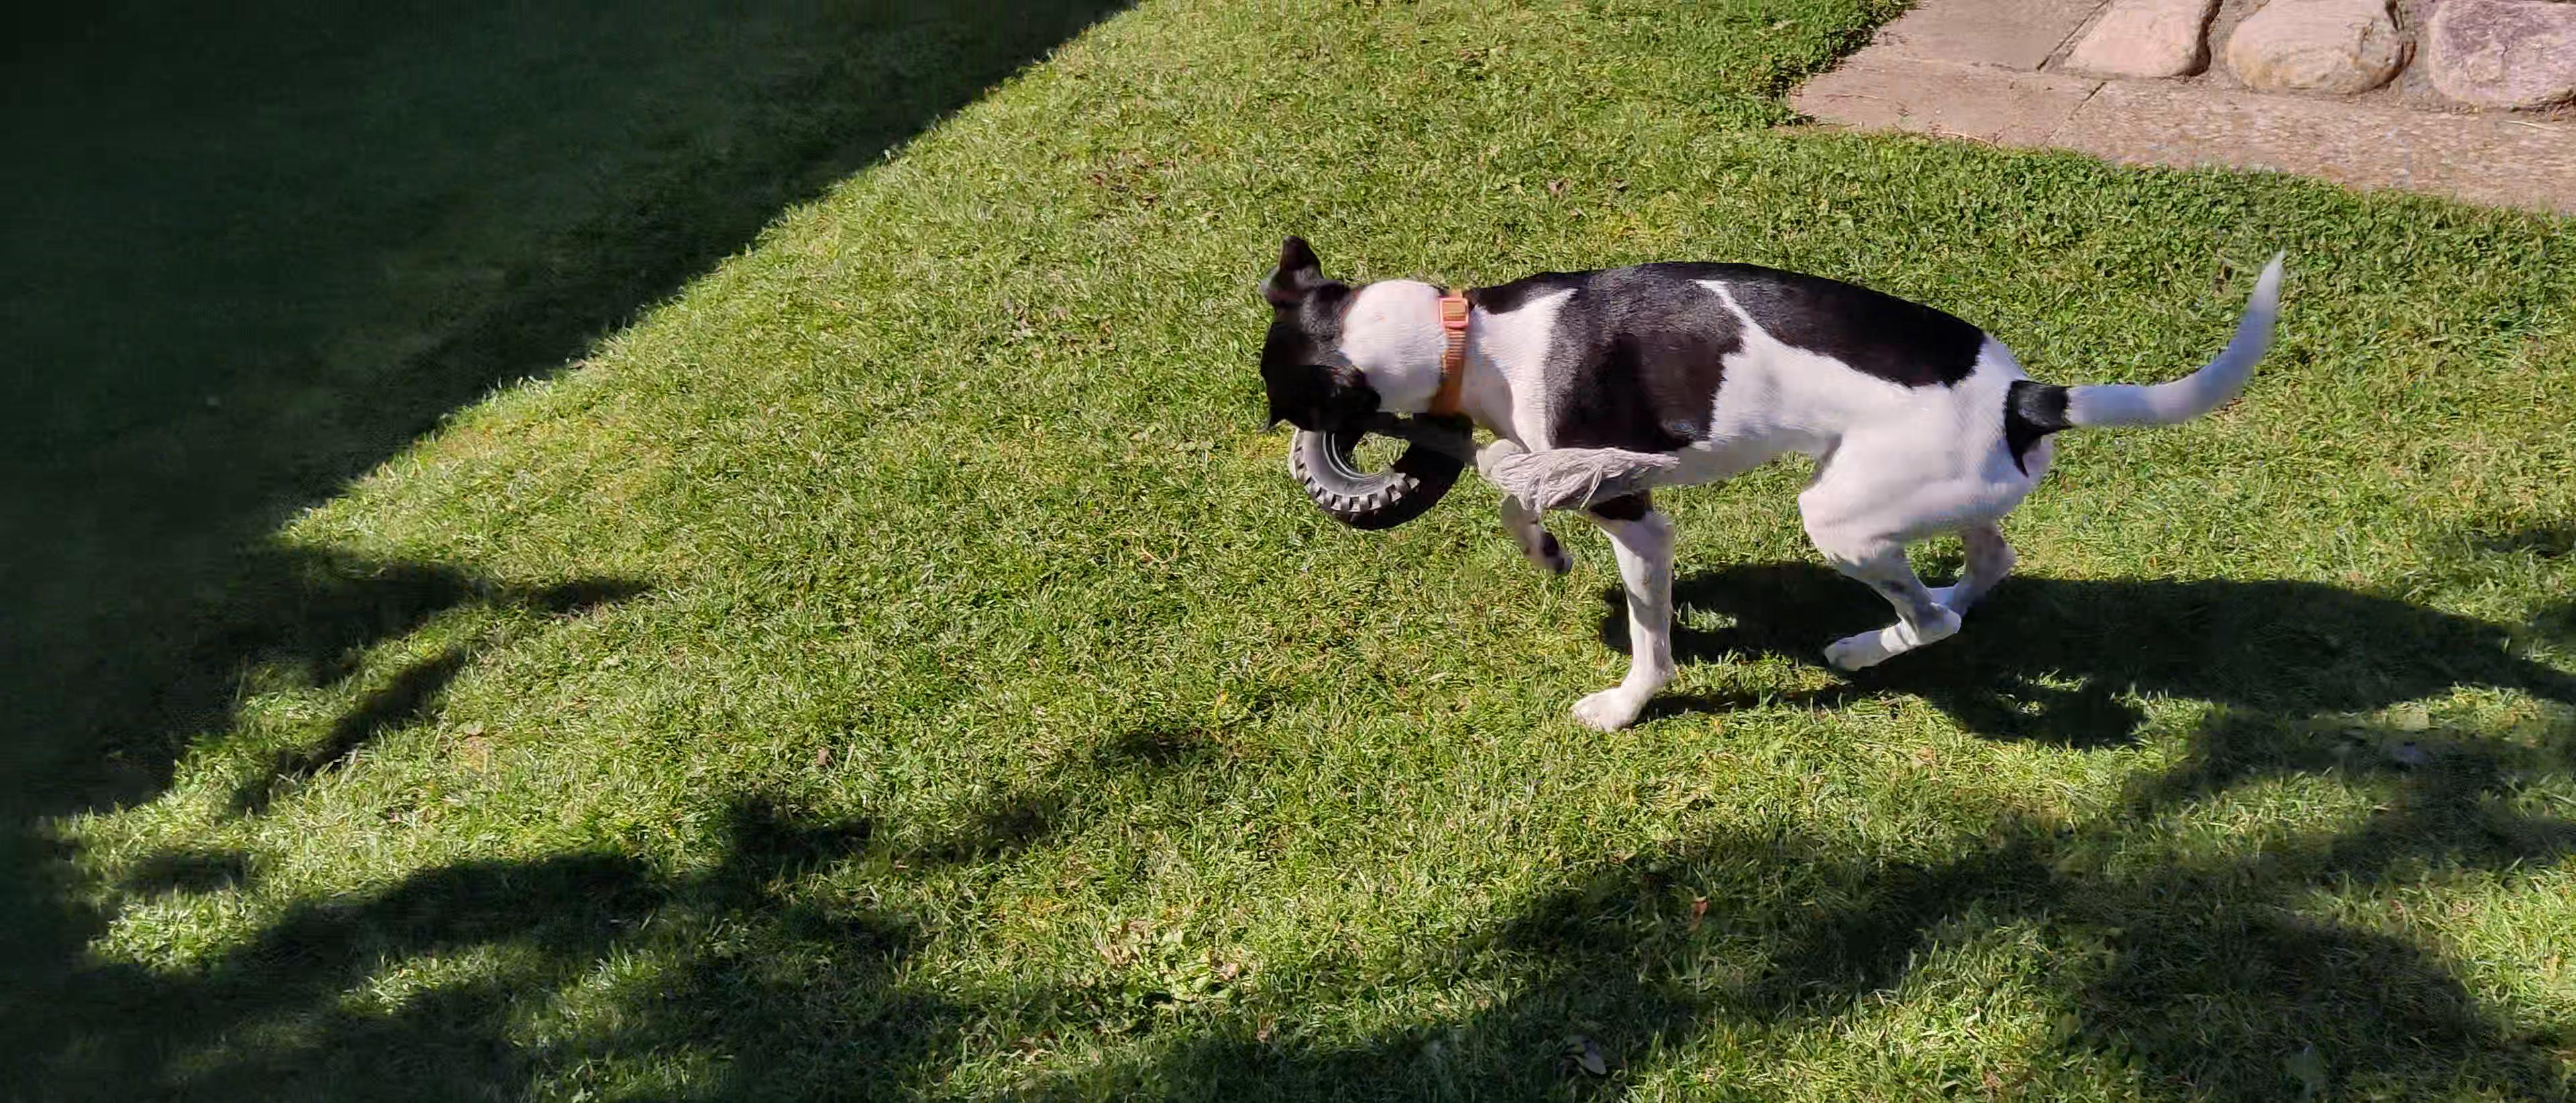Dog: (1247, 205, 2300, 741)
